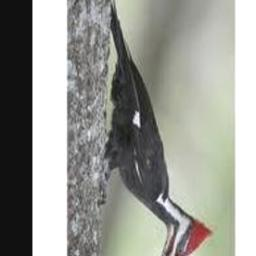Woodpecker: (104, 0, 214, 256)
